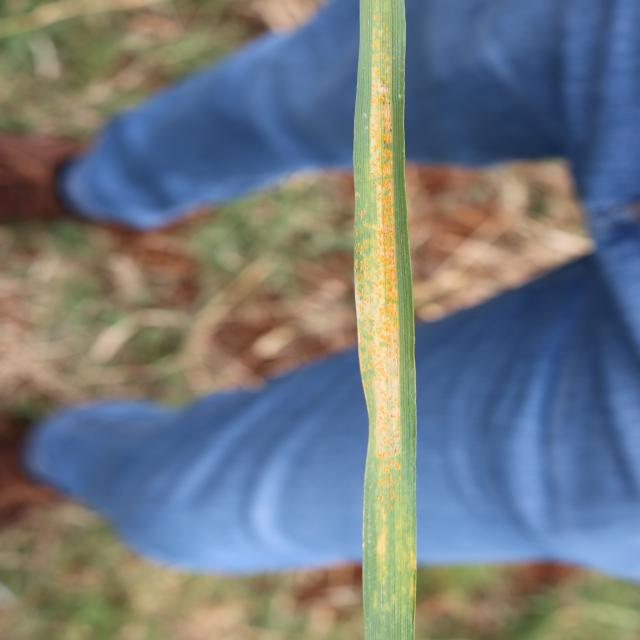Stripe Rust: (354, 253, 406, 465), (372, 16, 398, 251)
